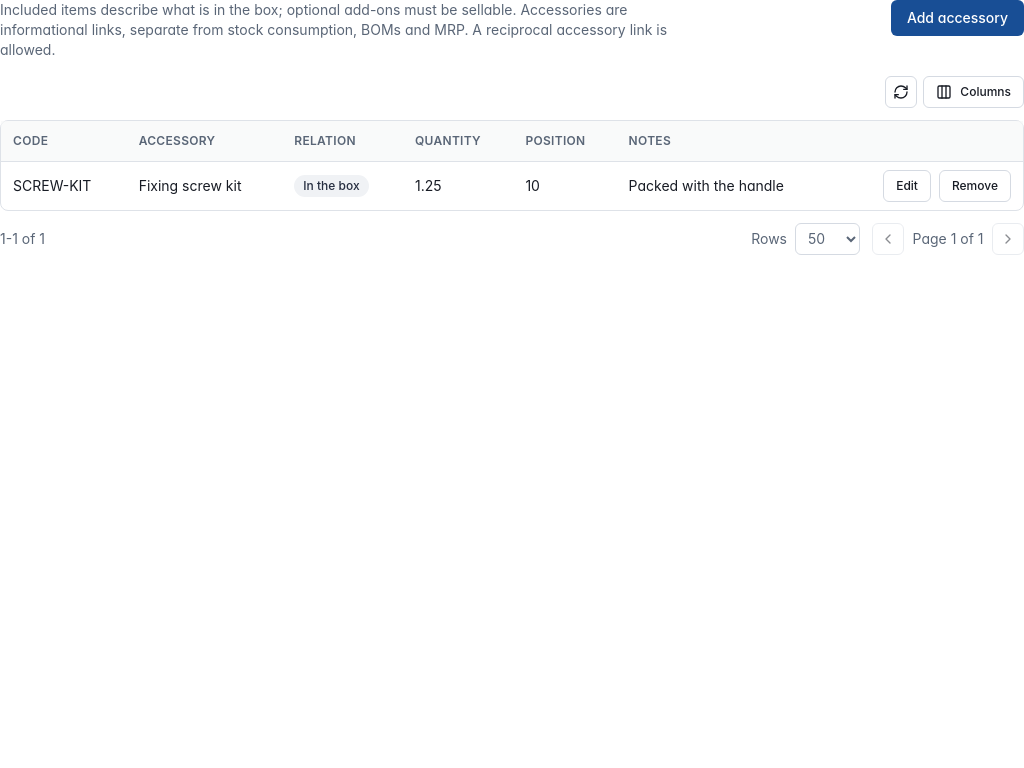
Scenario: item accessories › requires an audit reason for removal and shows a refusal without losing it
Click the button with aria-label "Remove Fixing screw kit". click: (975, 186)
box: [939,170,1011,202]
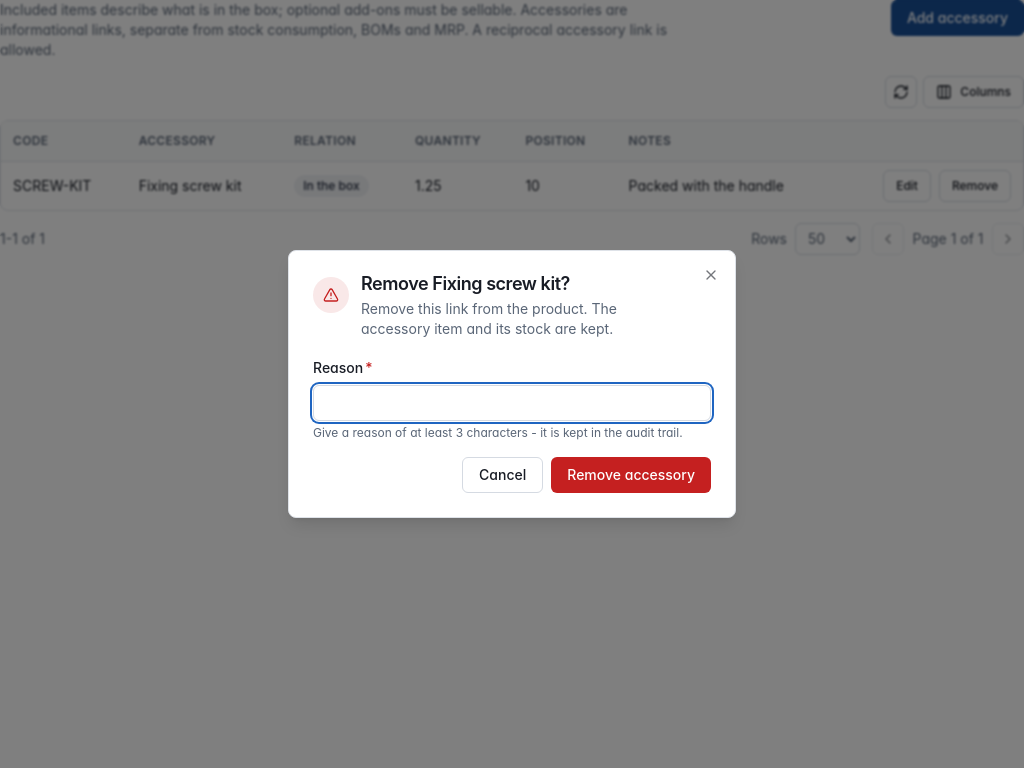
Click the button "Remove accessory". click: (631, 475)
box: [551,457,711,493]
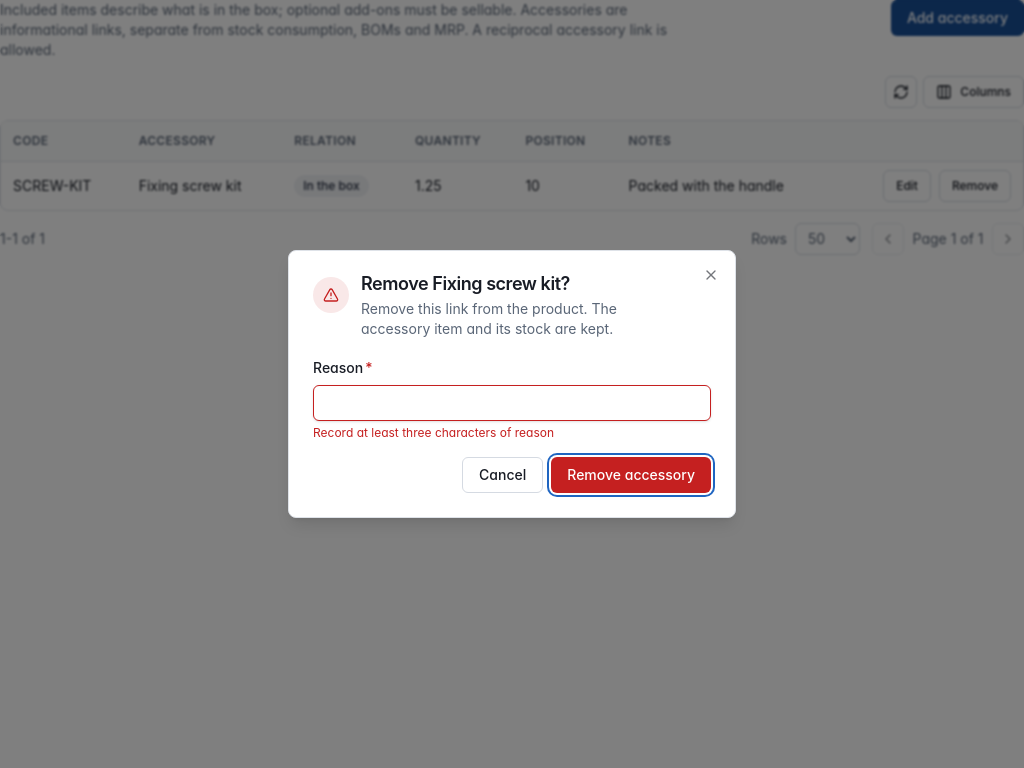
Click the field labelled "Reason". click: (512, 403)
box: [313,385,711,421]
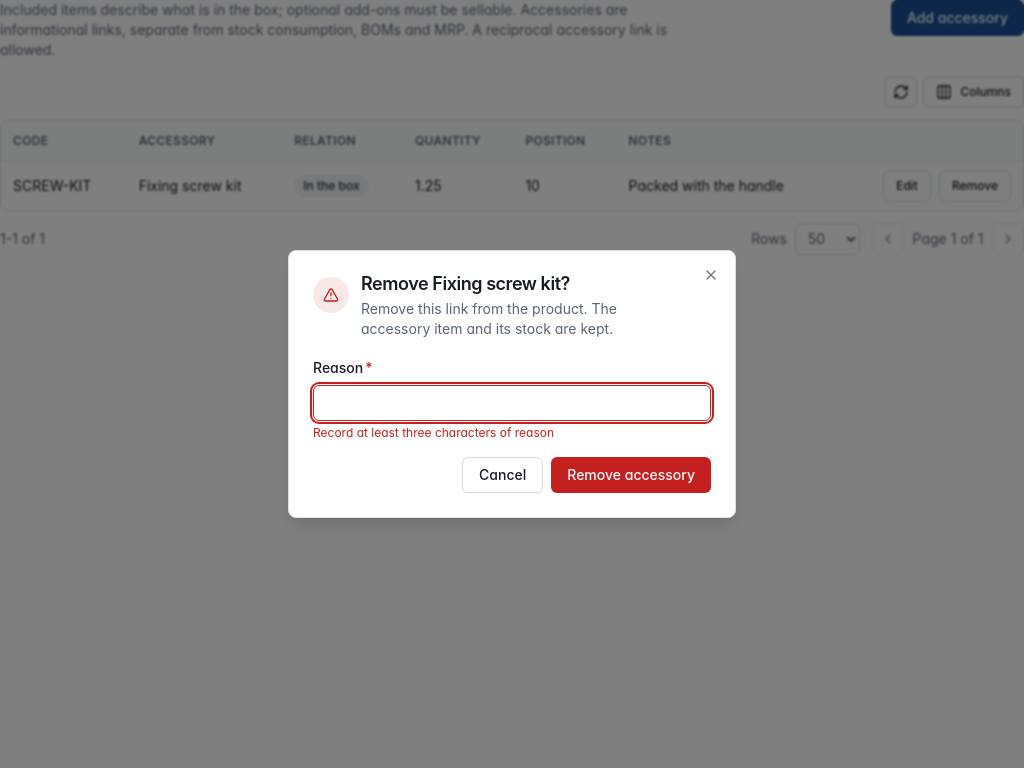
Type keys "No longer supplied in the box"
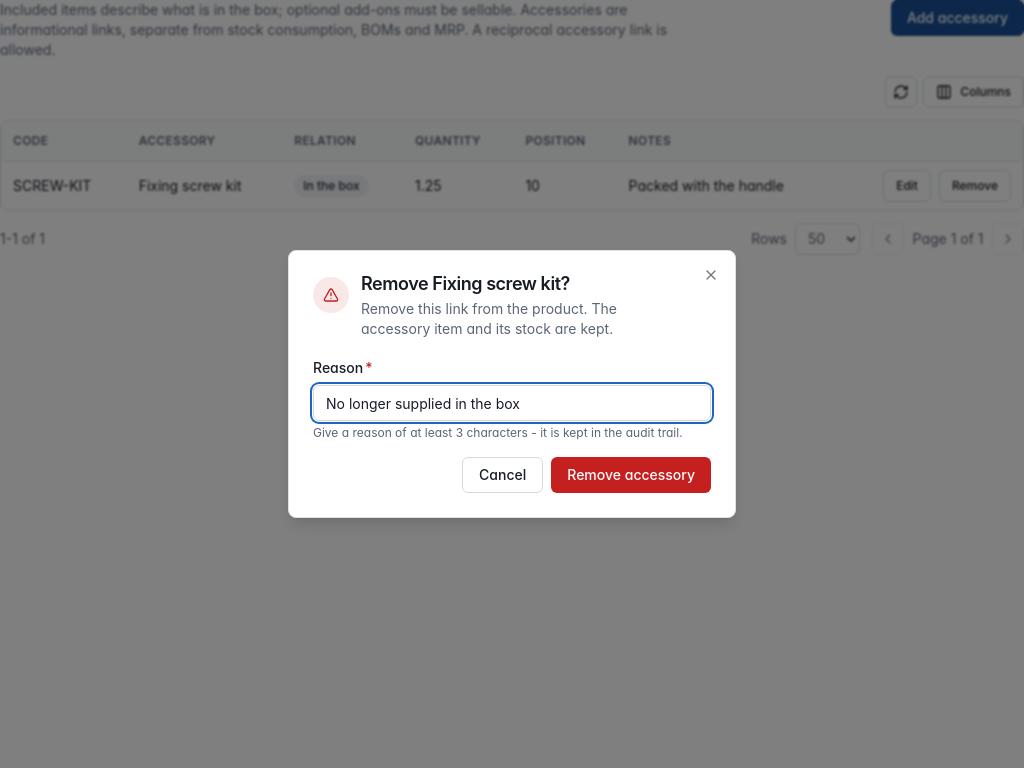
Click the button "Remove accessory". click: (631, 475)
box: [551,457,711,493]
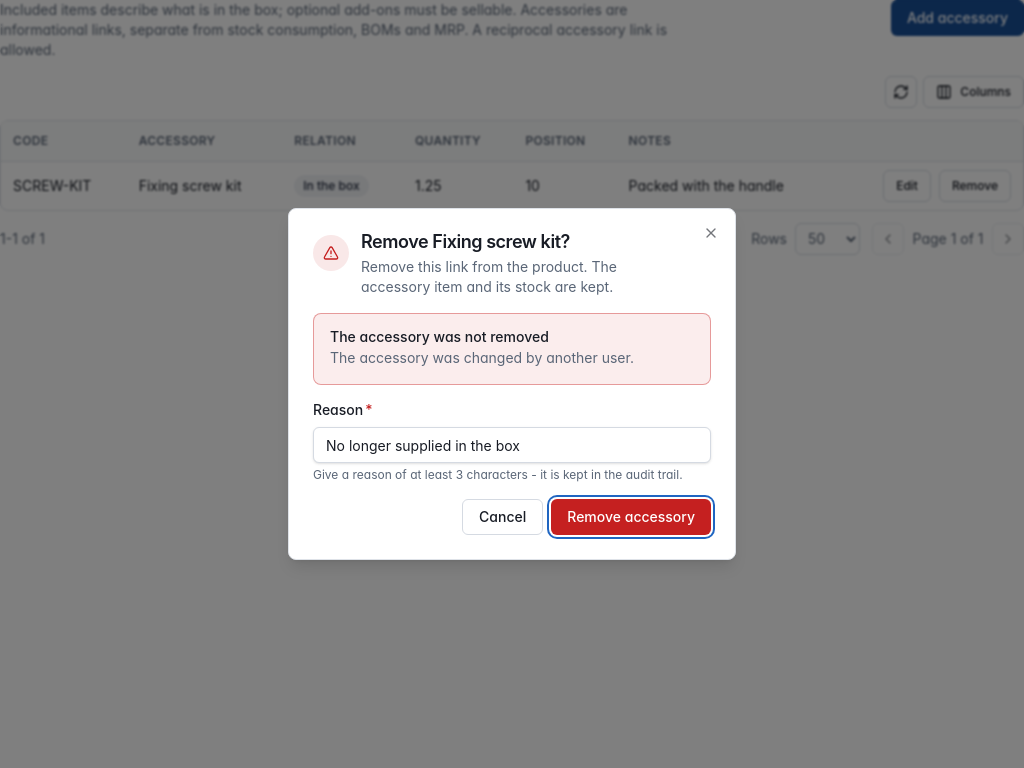
Now the field labelled "Reason" holds "No longer supplied in the box", box [313,427,711,463]
Now the text "The accessory was changed by another user." is shown, box [330,349,634,366]
